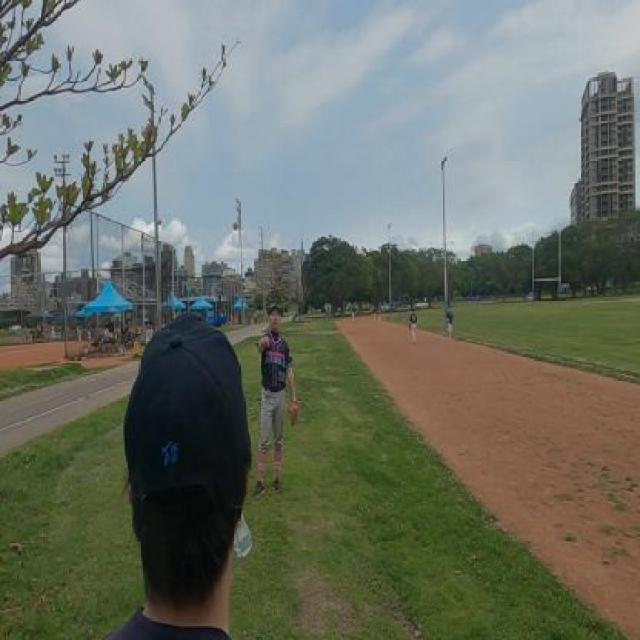baseball: (232, 220, 238, 231)
